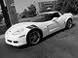car: (3, 7, 76, 50)
